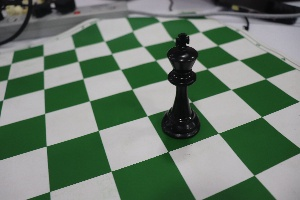black_king: (151, 21, 206, 144)
